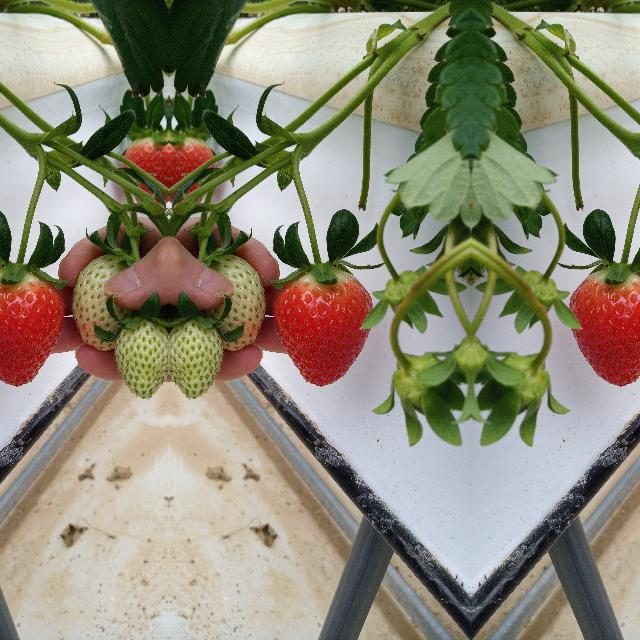Health_100: (273, 266, 373, 386), (568, 266, 640, 386), (0, 266, 63, 386), (170, 139, 216, 209), (120, 139, 166, 209)
Health_25: (171, 313, 217, 412), (119, 313, 165, 412)
Health_50: (192, 246, 270, 350), (66, 246, 144, 350)
